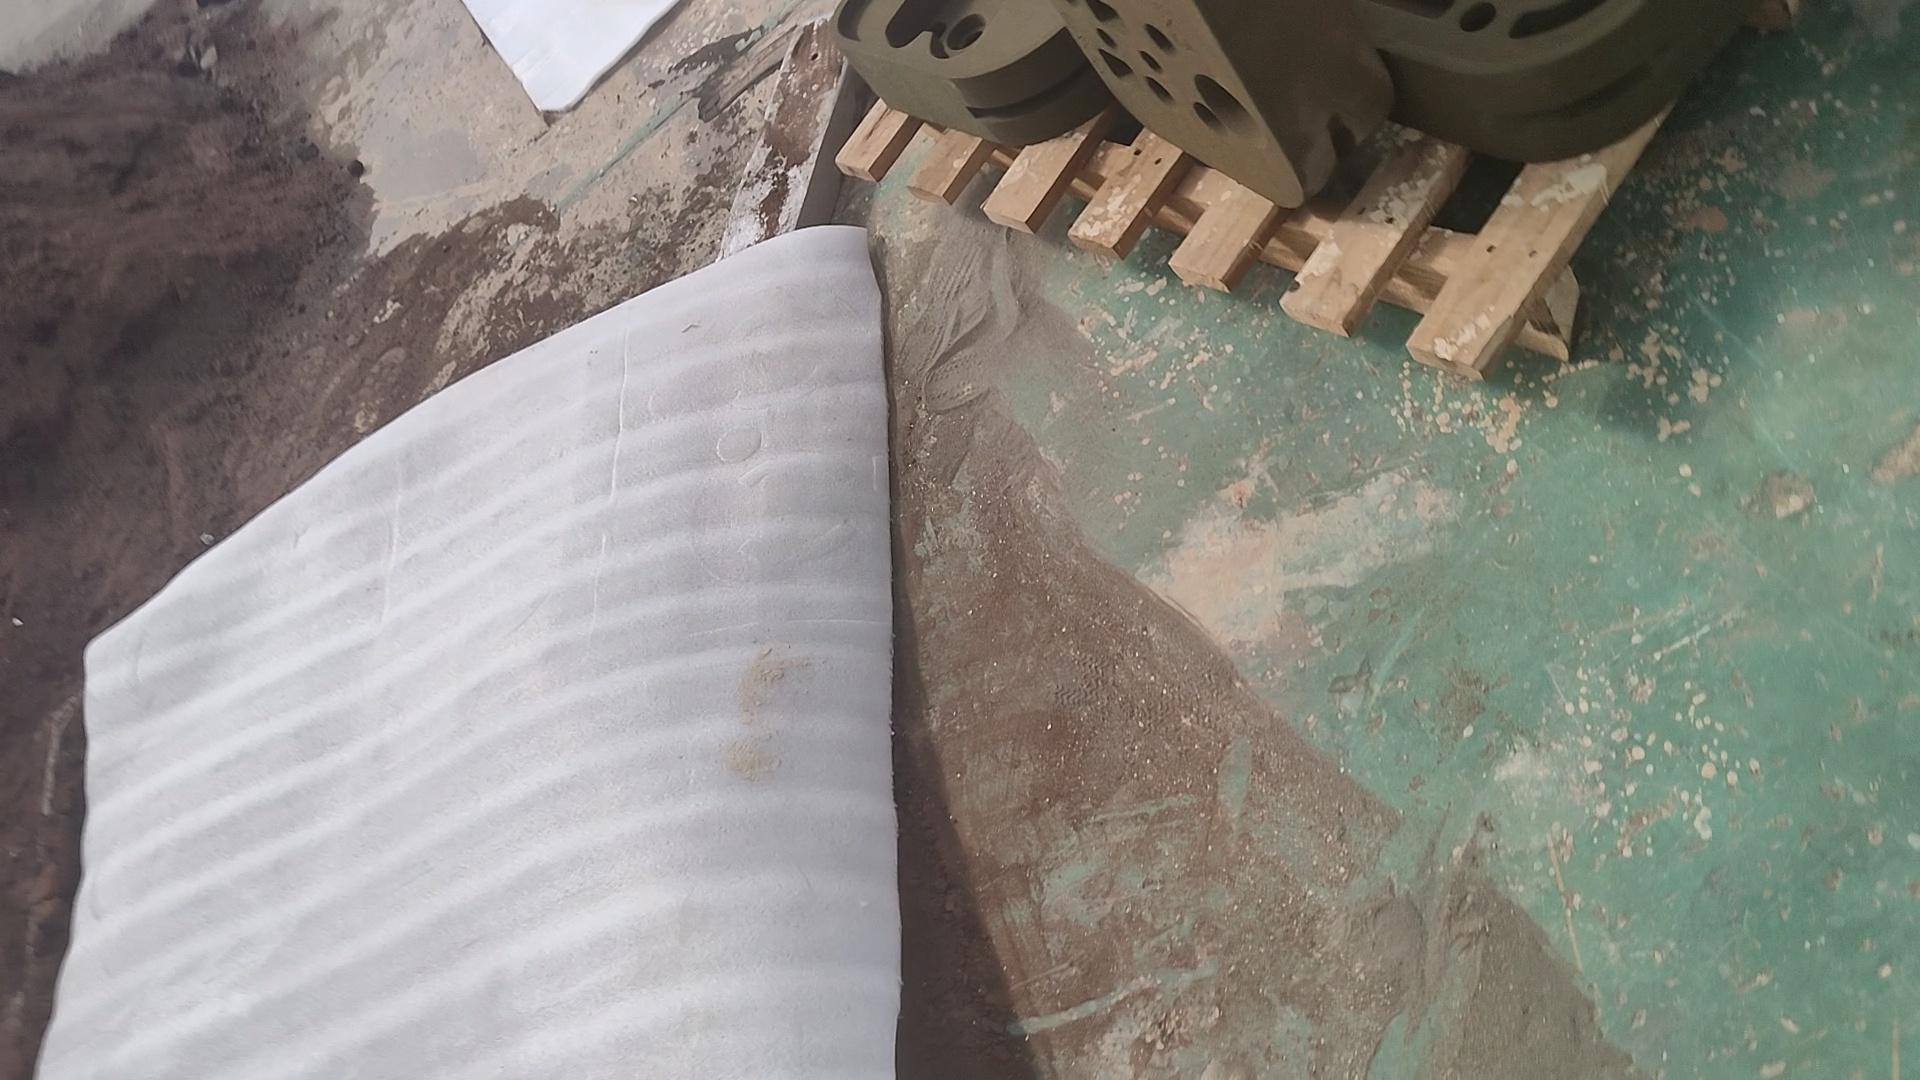pouring hole: (1193, 73, 1263, 142)
